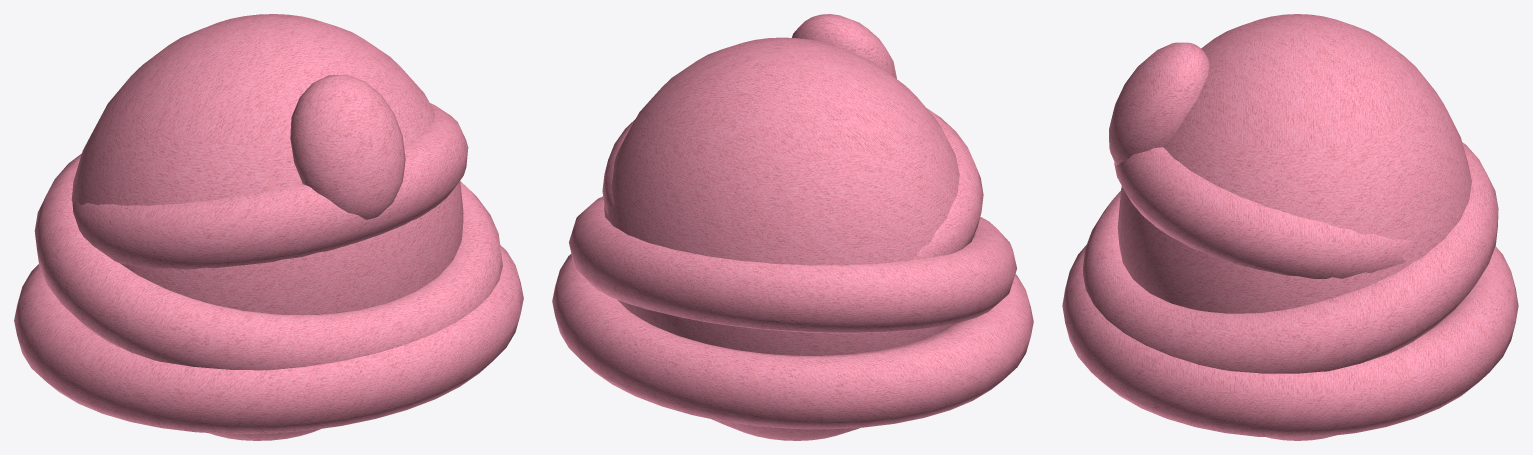
File: turban1.fbx
The picture shows the model from 3 angles, left to right: view 1: azimuth 30°, elevation 25°; view 2: azimuth 150°, elevation 25°; view 3: azimuth 270°, elevation 25°; orthographic projection. The views are drawn at different scales.
Visible parts, largest first — view 1: turban1; view 2: turban1; view 3: turban1.
Part boxes in pixels (x1,y1,x2,y2): turban1: (14, 14, 523, 440); turban1: (552, 14, 1033, 440); turban1: (1062, 14, 1518, 440).
Bounding box in the file's own units: 0.72 × 0.6 × 0.6336.
1 material, 1 textured.
